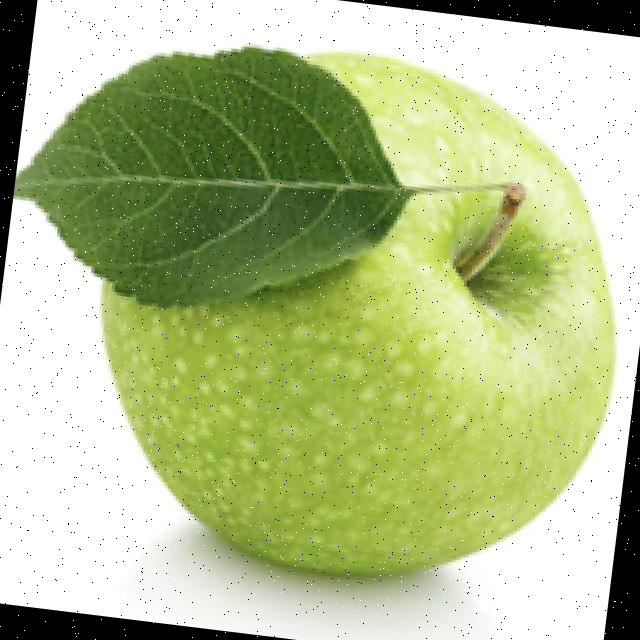apple: (13, 40, 619, 637)
